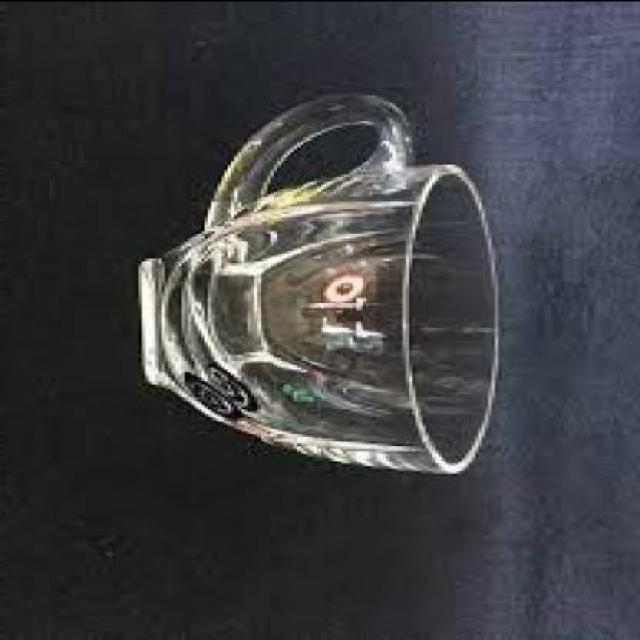glass: (142, 90, 502, 472)
